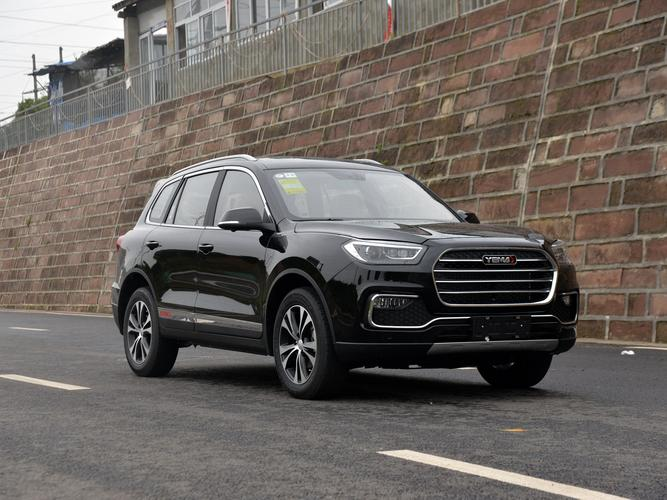汽车: (102, 145, 590, 414)
